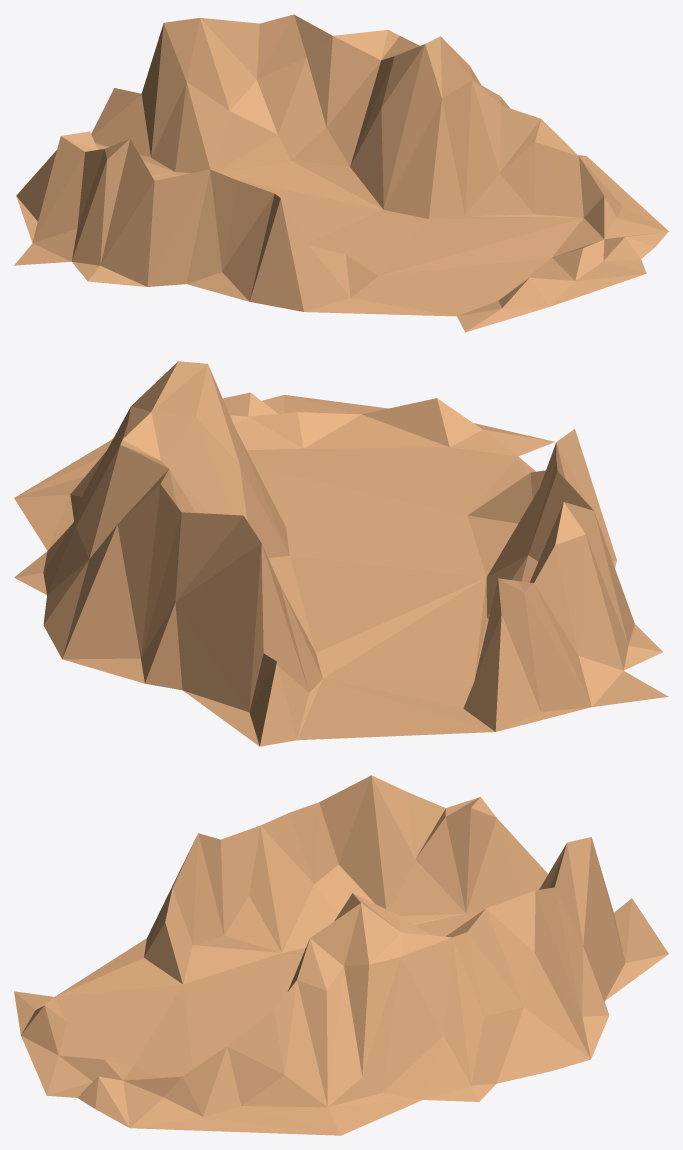
File: MONTAIN_03.fbx
3 views of the same model, one above another, from view 1: azimuth 30°, elevation 25°; view 2: azimuth 150°, elevation 25°; view 3: azimuth 270°, elevation 25° (orthographic). The views are drawn at different scales.
Visible parts, largest first — view 1: Plane.007; view 2: Plane.007; view 3: Plane.007.
Part boxes in pixels (box(x1,y1,x2,y2)): Plane.007: box(14, 14, 668, 332); Plane.007: box(14, 361, 668, 746); Plane.007: box(14, 775, 668, 1135).
Bounding box in the file's own units: 3635 × 970 × 3498.
